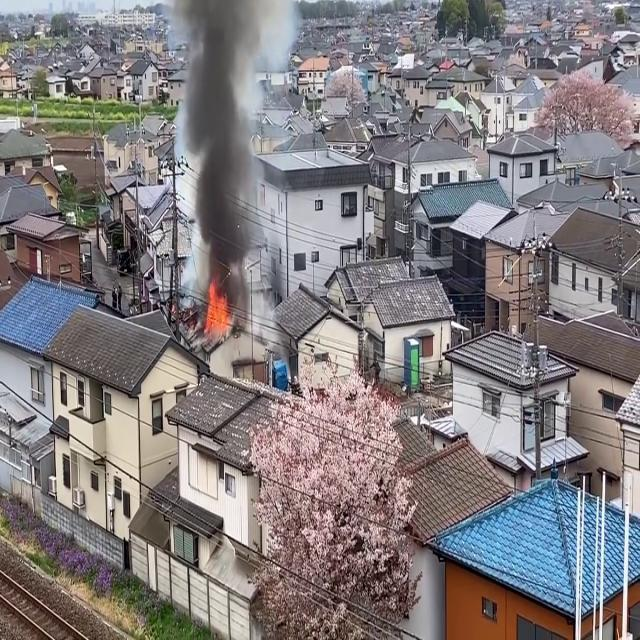Fire: (201, 278, 233, 340)
Smoke: (174, 0, 272, 296)
